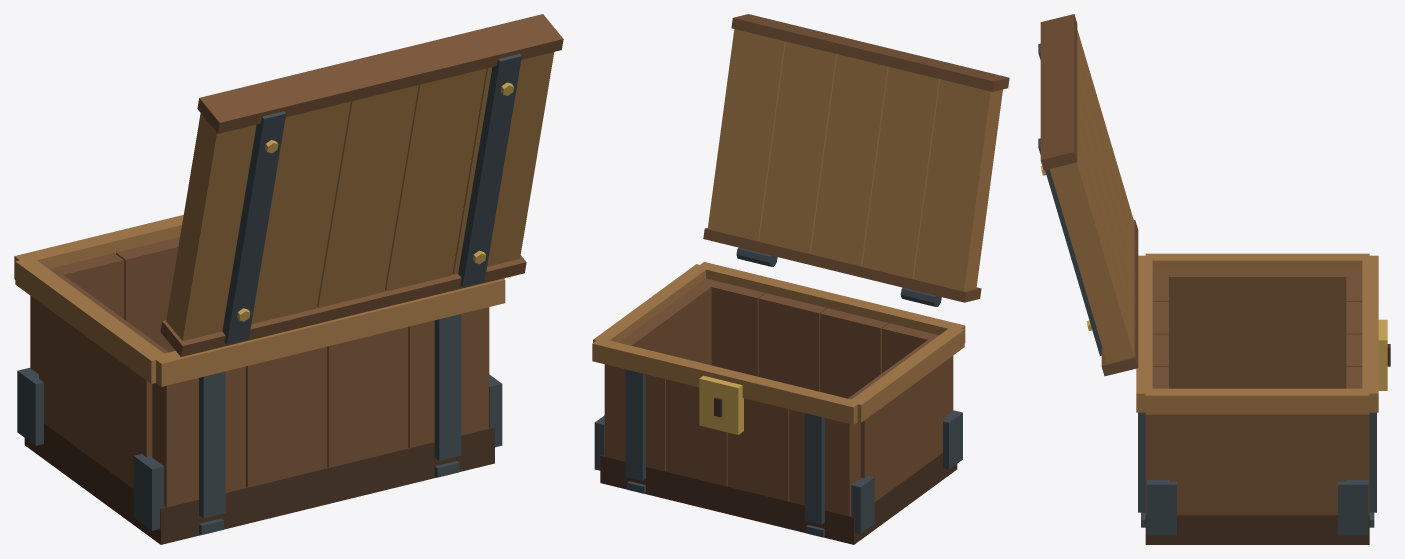
File: reward_chest_quality_open.glb
3 views of the same model, side by side, from view 1: azimuth 30°, elevation 25°; view 2: azimuth 150°, elevation 25°; view 3: azimuth 270°, elevation 25° (orthographic). The views are drawn at different scales.
Visible parts, largest first — view 1: reward_chest_quality_open; view 2: reward_chest_quality_open; view 3: reward_chest_quality_open.
Part boxes in pixels (bbox=[...]): reward_chest_quality_open: bbox=[14, 14, 563, 544]; reward_chest_quality_open: bbox=[592, 14, 1009, 544]; reward_chest_quality_open: bbox=[1038, 14, 1390, 544].
Bounding box in the file's own units: 0.719 × 0.9336 × 0.7547.
